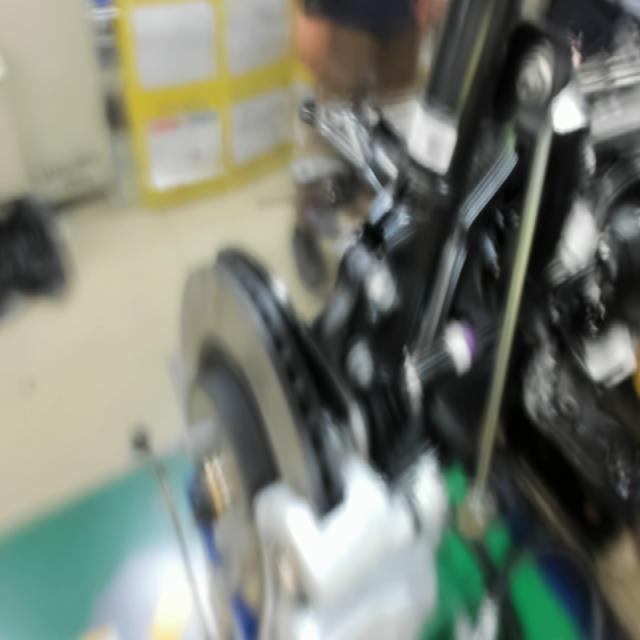Disc-HT: (187, 328, 286, 498)
Drive Shaft-UG: (444, 316, 482, 376)
